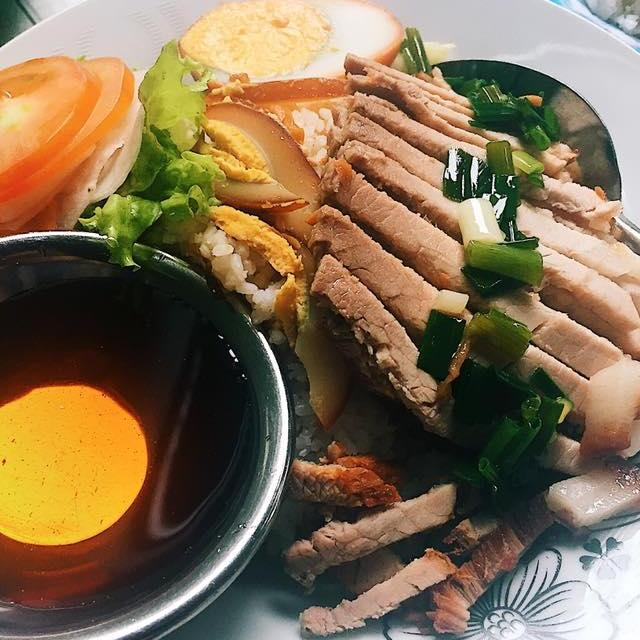com: (176, 216, 291, 328)
com suon trung: (0, 7, 640, 640)
suon: (306, 46, 640, 542), (279, 424, 566, 640)
trung: (197, 191, 363, 433), (173, 0, 408, 109), (182, 96, 330, 254)
